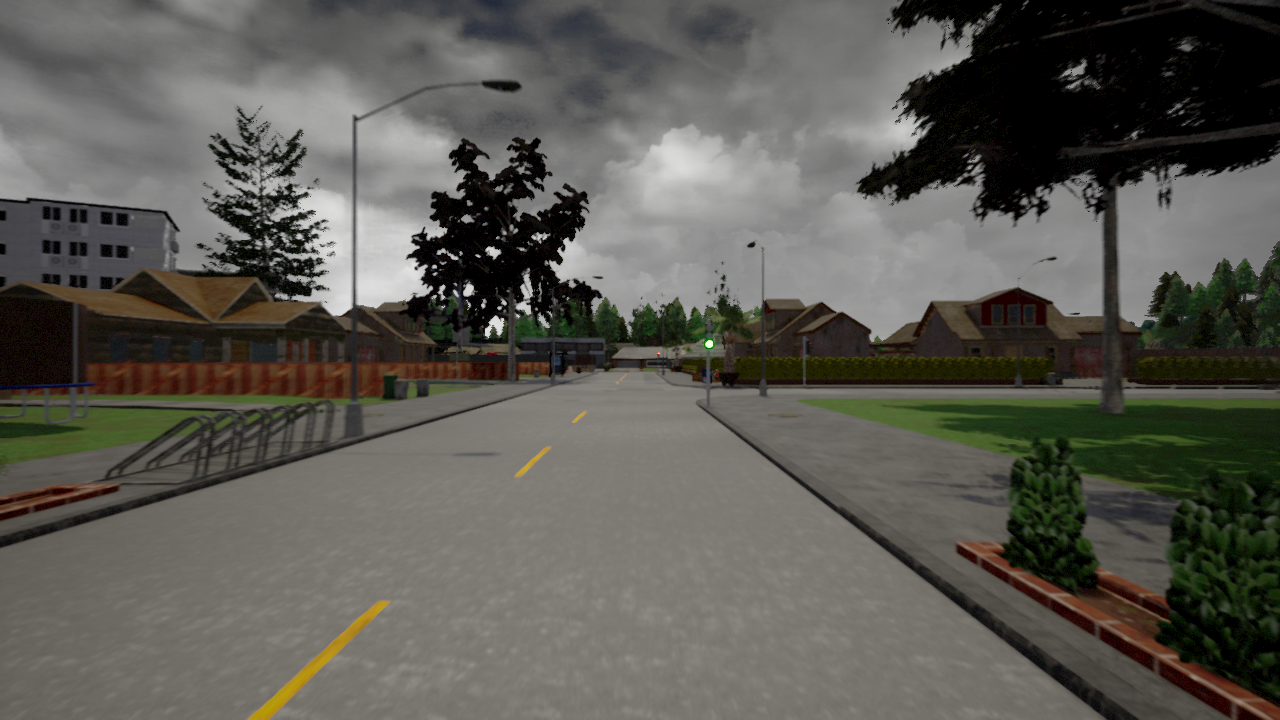green: (704, 322, 714, 348)
